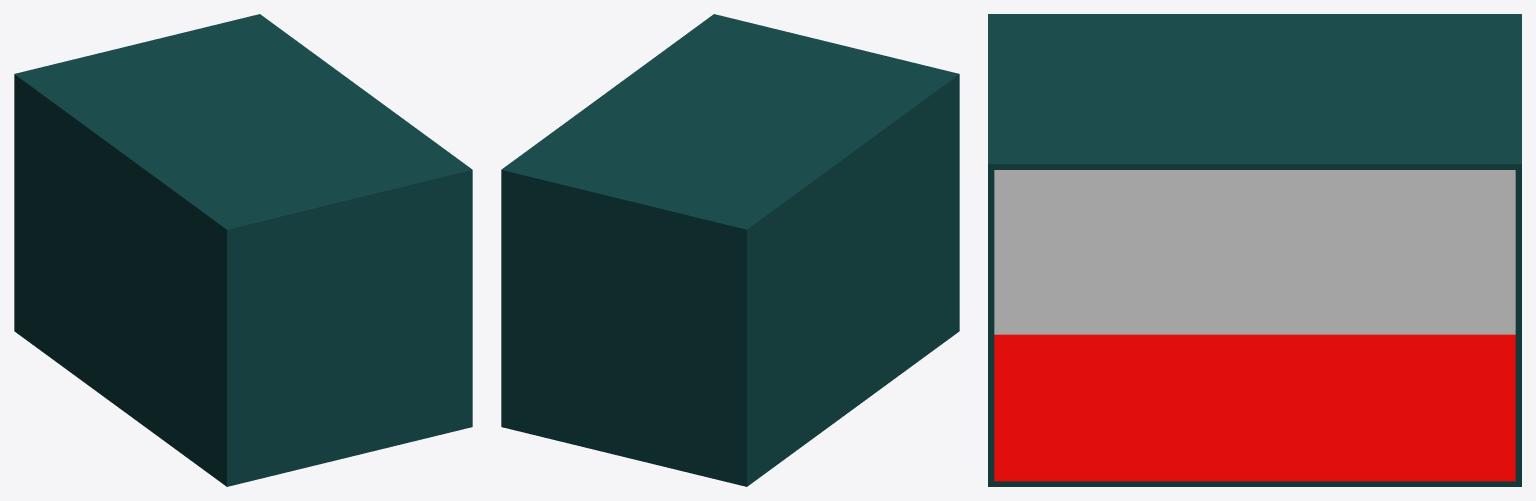
3 renders of one model, left to right at view 1: azimuth 30°, elevation 25°; view 2: azimuth 150°, elevation 25°; view 3: azimuth 270°, elevation 25°, orthographic. The views are drawn at different scales.
Visible parts, largest first — view 1: SM_box3x2; view 2: SM_box3x2; view 3: SM_box3x2.
Part boxes in pixels (x1,y1,x2,y2): SM_box3x2: [14, 14, 472, 486]; SM_box3x2: [501, 14, 959, 486]; SM_box3x2: [988, 14, 1521, 486].
Size of the model in its own units: 400 by 400 by 600.
